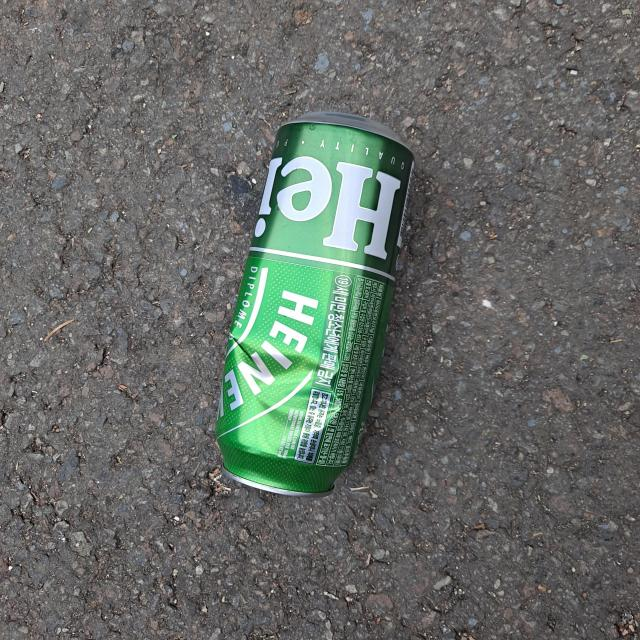can: (215, 111, 414, 498)
